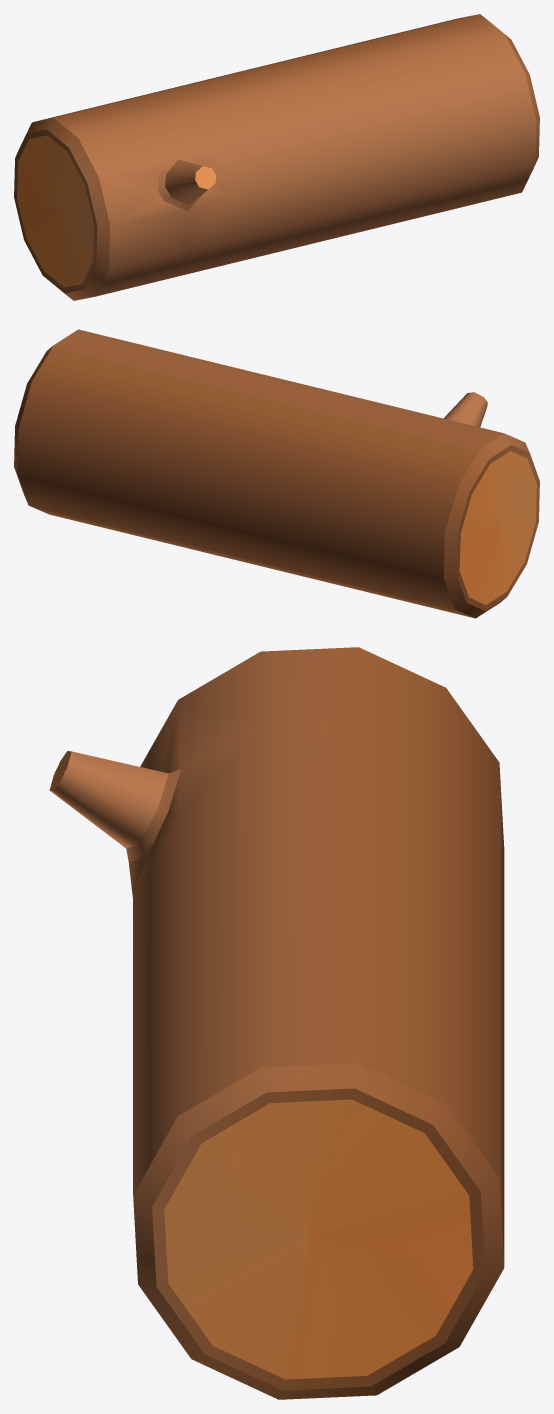
Rendered from rolling-forest-14.glb.
The picture shows the model from 3 angles, top to bottom: view 1: azimuth 30°, elevation 25°; view 2: azimuth 150°, elevation 25°; view 3: azimuth 270°, elevation 25°; orthographic projection. The views are drawn at different scales.
Visible parts, largest first — view 1: piece; view 2: piece; view 3: piece.
Part boxes in pixels (<box>): piece: <box>14,14,539,300</box>; piece: <box>14,329,539,618</box>; piece: <box>49,647,504,1399</box>.
Size of the model in its own units: 1.09 by 0.3957 by 0.4848.
Materials: 1 (1 with a texture image).
